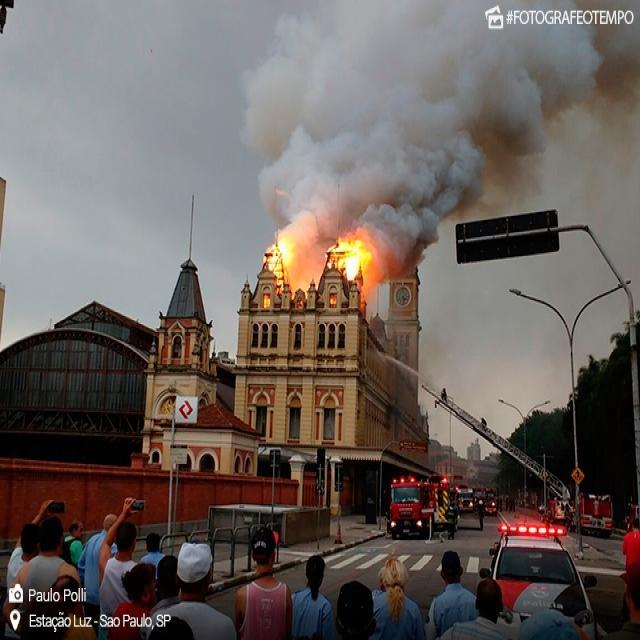Fire: (263, 228, 379, 314)
Smoke: (251, 0, 640, 225), (379, 228, 437, 284)
